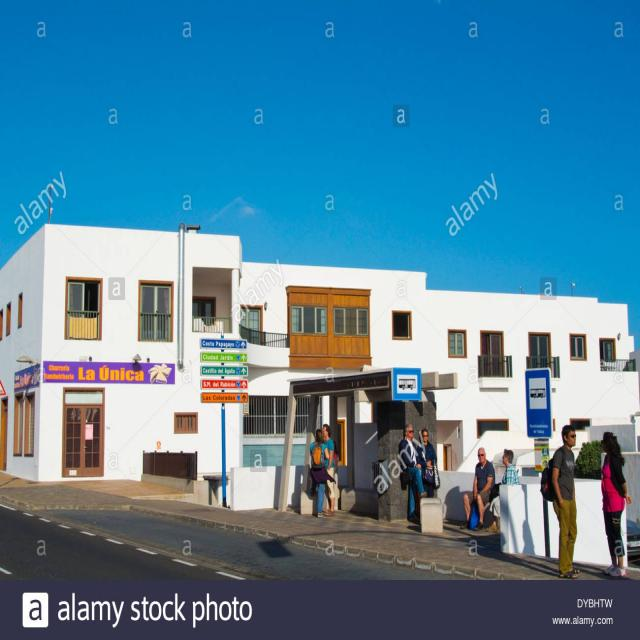body: (467, 543, 608, 579), (599, 430, 633, 578), (550, 423, 580, 579), (397, 423, 428, 526), (459, 446, 496, 531), (308, 427, 337, 520), (415, 428, 441, 500), (322, 422, 336, 517), (502, 448, 520, 484)
